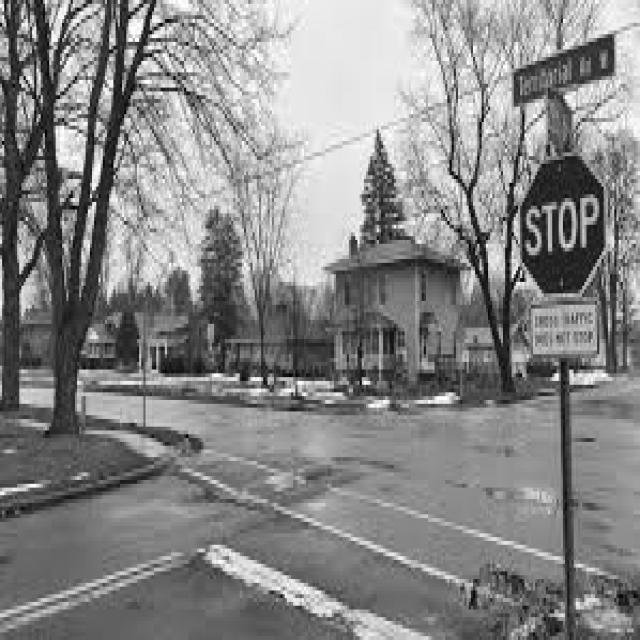stop sign: (520, 152, 610, 298)
